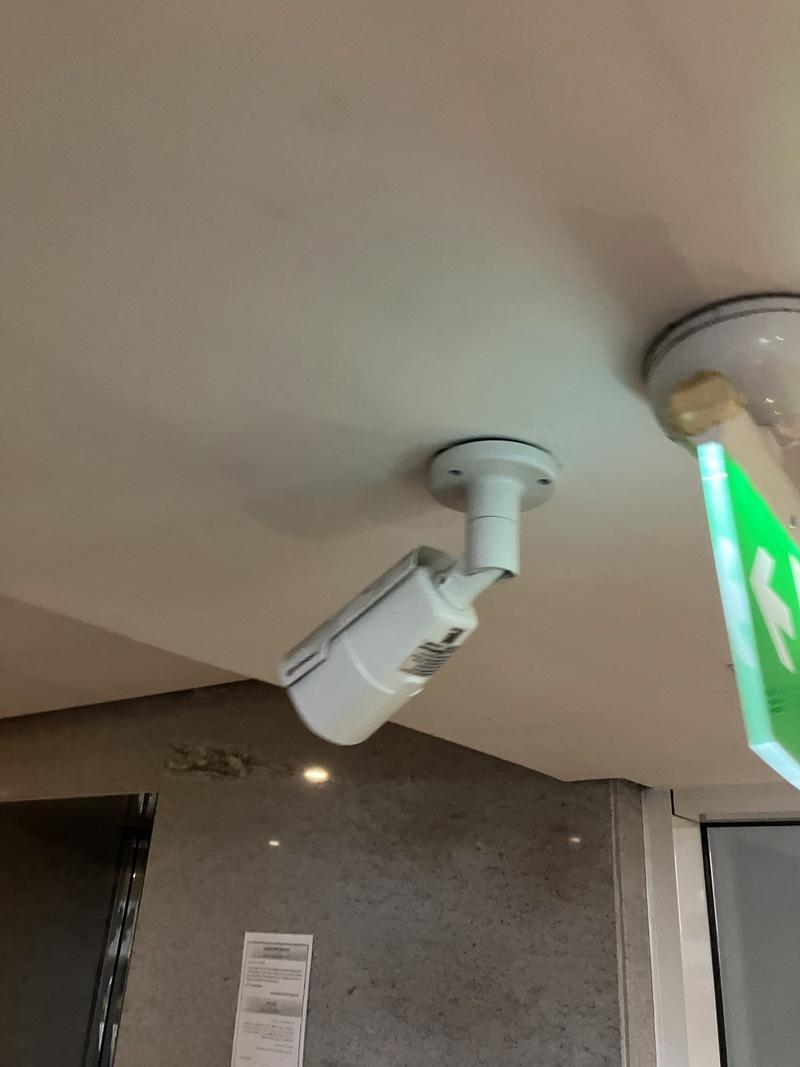bullet: (267, 526, 493, 759)
